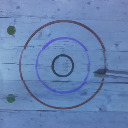Axe Tip: (93, 71, 105, 74)
